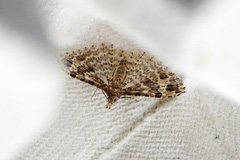Alucitidae: (57, 38, 186, 109)
moth: (59, 40, 188, 111)
